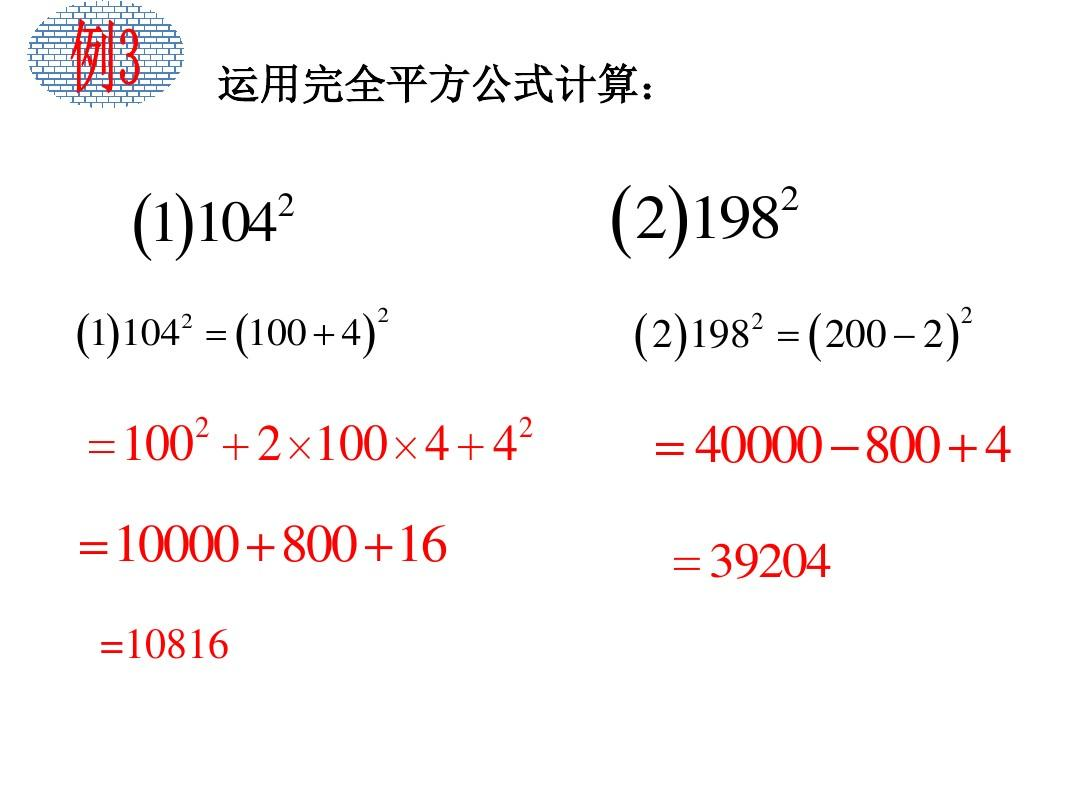square: (776, 182, 805, 215), (279, 184, 295, 221), (515, 414, 536, 438), (193, 412, 207, 443), (957, 304, 975, 325), (748, 309, 762, 333), (373, 305, 388, 326), (179, 313, 197, 330)
